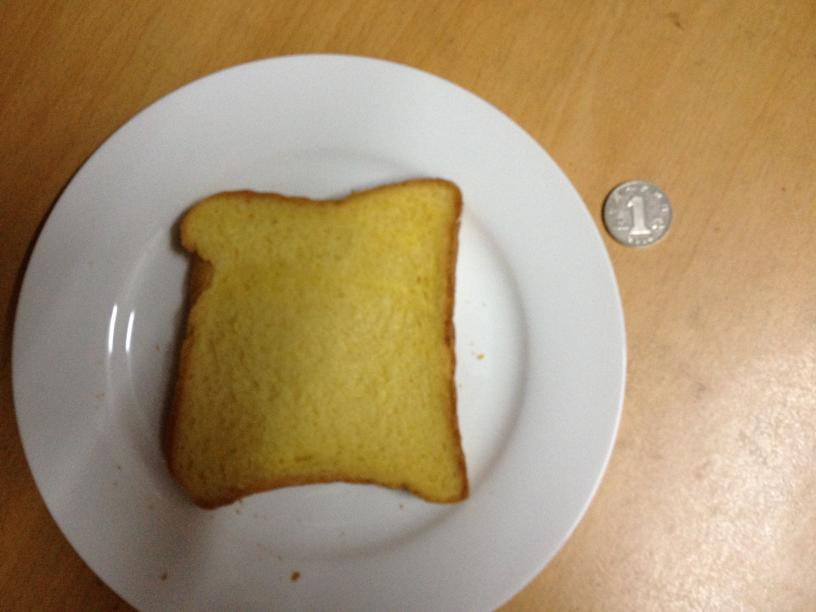bread: (161, 176, 478, 510)
coin: (597, 179, 672, 245)
